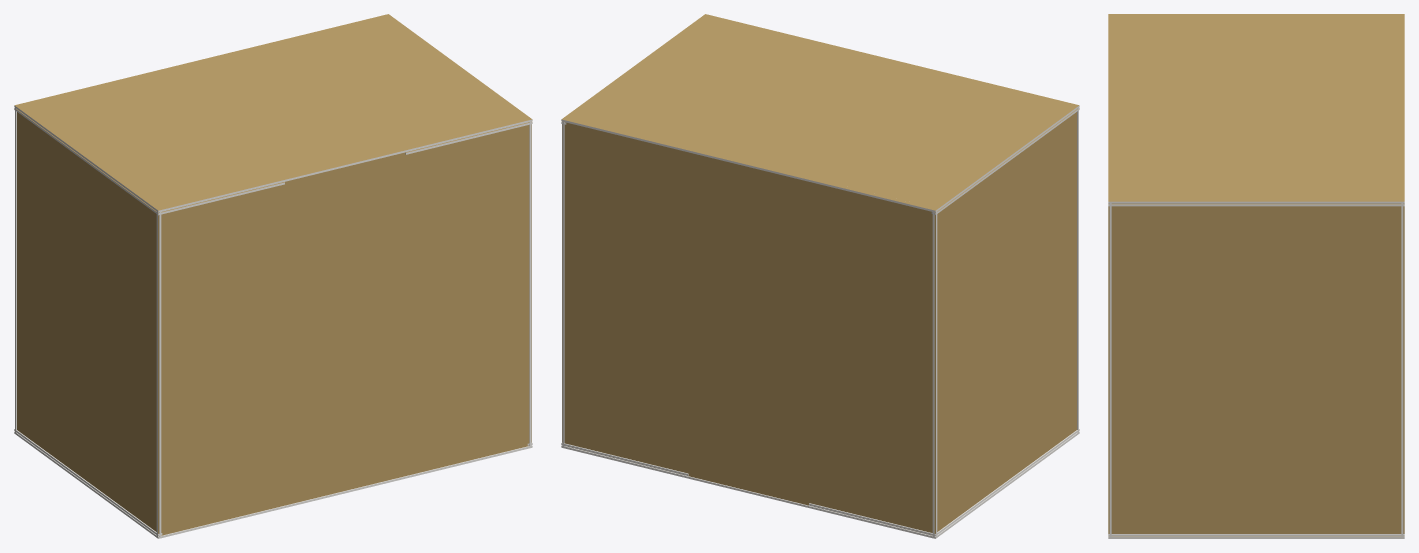
The picture shows the model from 3 angles, left to right: view 1: azimuth 30°, elevation 25°; view 2: azimuth 150°, elevation 25°; view 3: azimuth 270°, elevation 25°; orthographic projection. The views are drawn at different scales.
Visible parts, largest first — view 1: Packive_Box_fefco0210; view 2: Packive_Box_fefco0210; view 3: Packive_Box_fefco0210.
Boxes of the visible parts, x1,y1,x2,y2 form: Packive_Box_fefco0210: (14,14,532,538); Packive_Box_fefco0210: (561,14,1079,538); Packive_Box_fefco0210: (1108,14,1404,538).
Size of the model in its own units: 0.3 by 0.2515 by 0.2.
24 materials, 12 textured.
